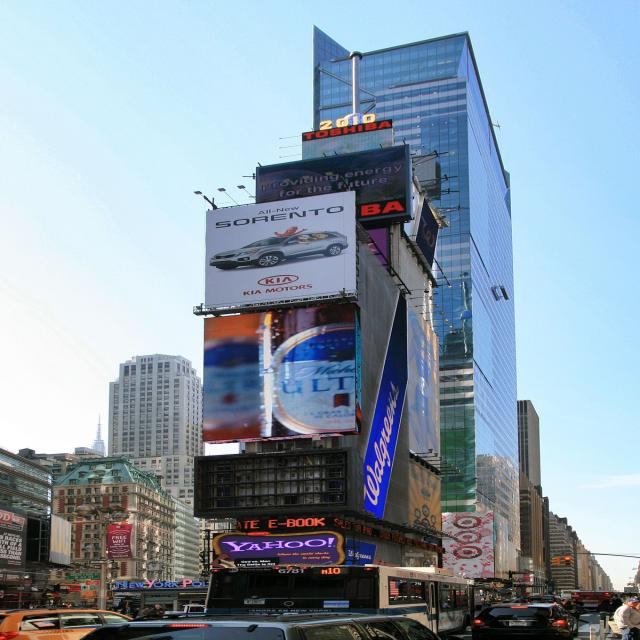body: (613, 597, 639, 640), (567, 601, 593, 626), (597, 599, 614, 628), (484, 595, 527, 604), (34, 602, 81, 608), (148, 604, 166, 618), (103, 606, 115, 623), (142, 606, 152, 621), (158, 586, 206, 589), (442, 596, 452, 609), (130, 608, 140, 619), (612, 595, 622, 605), (124, 605, 132, 613), (508, 597, 518, 603), (25, 604, 35, 609), (92, 605, 100, 610), (571, 598, 579, 601)
